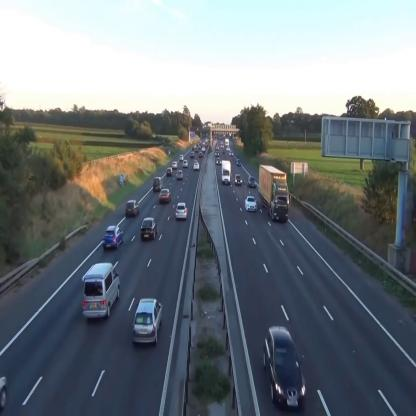car: (263, 326, 307, 408), (132, 298, 163, 346), (102, 226, 124, 249), (141, 217, 158, 239), (126, 200, 139, 218), (159, 188, 172, 204), (244, 196, 257, 212), (176, 203, 188, 220), (152, 177, 162, 191), (235, 174, 242, 186), (176, 170, 184, 180), (249, 176, 256, 187), (192, 162, 200, 170), (166, 168, 172, 176), (172, 161, 178, 169), (182, 160, 187, 168), (217, 156, 221, 165), (180, 154, 184, 161), (237, 159, 241, 166)
lorry: (83, 262, 120, 322), (259, 164, 289, 223), (222, 161, 230, 186)
